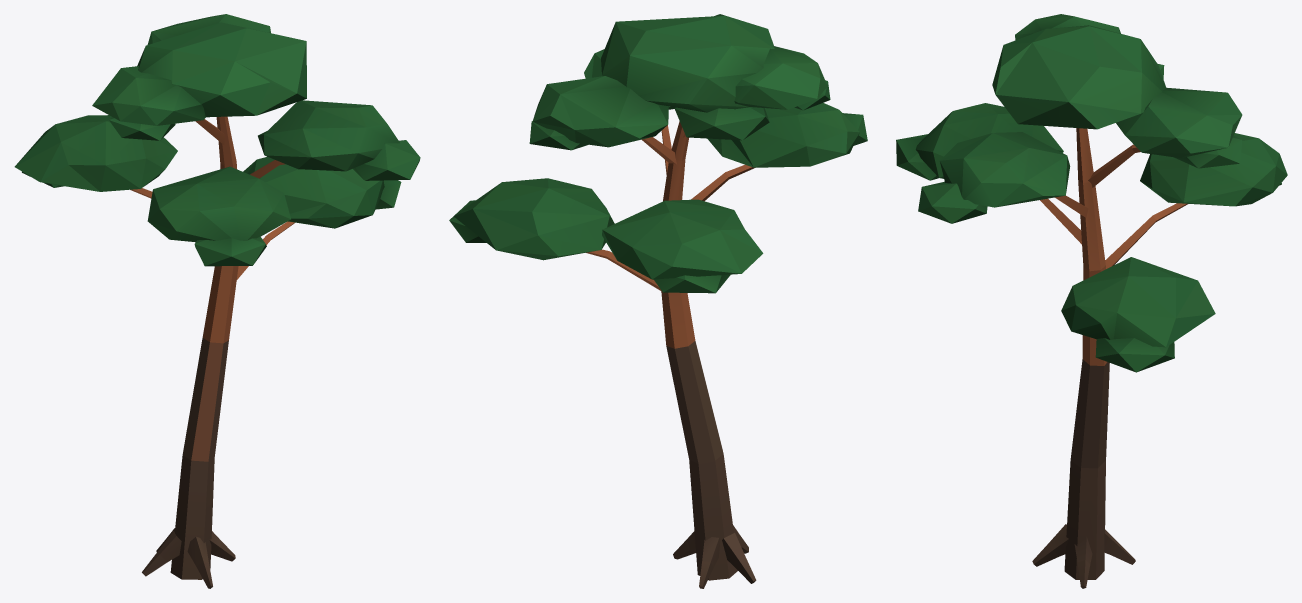
The model's file is tree_big_pine_low.glb.
The picture shows the model from 3 angles, left to right: view 1: azimuth 30°, elevation 25°; view 2: azimuth 150°, elevation 25°; view 3: azimuth 270°, elevation 25°; orthographic projection. The views are drawn at different scales.
Bounding box in the file's own units: 8.64 × 13.05 × 8.58.
